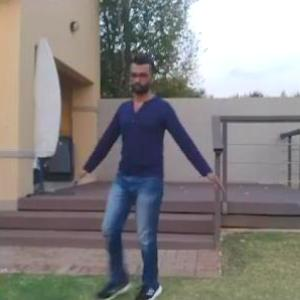land: (82, 68, 220, 294)
